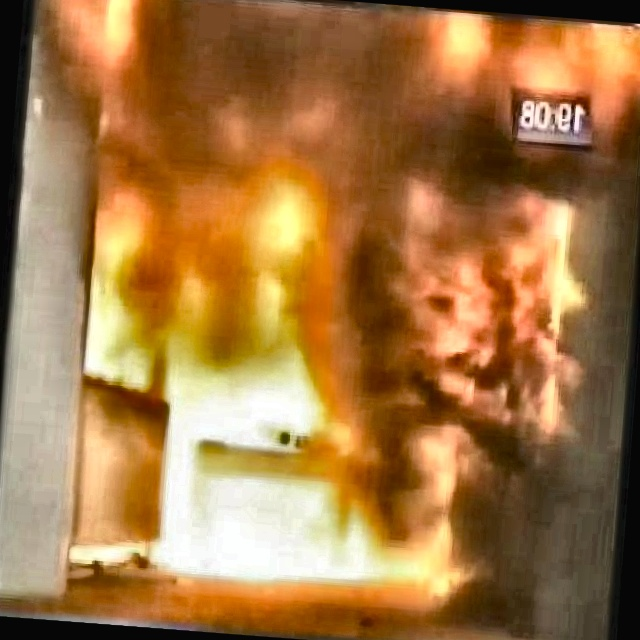fire: (68, 0, 640, 630)
